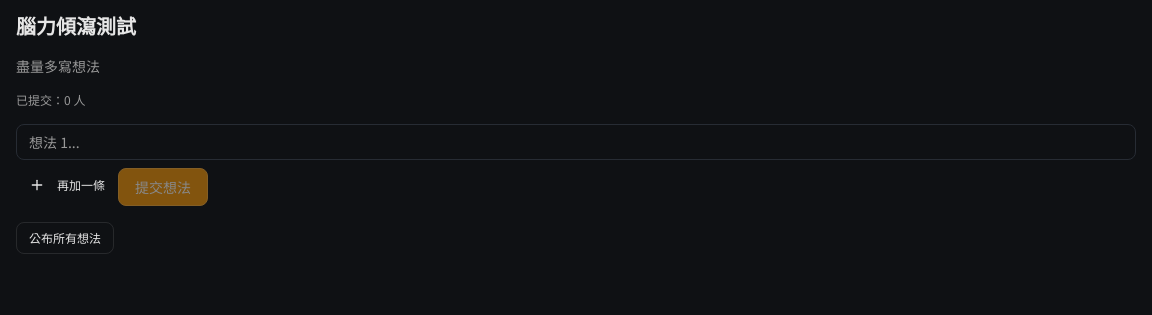
BrainDump — 互動 › 點加一條新增輸入框
Click the button with test id "bd-add-btn".
click(67, 185)  # box [16,169,118,201]
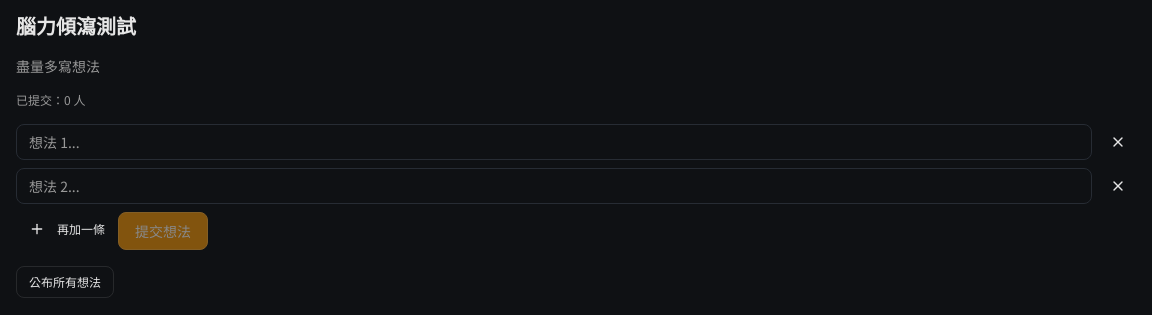
expect the field with test id "bd-idea-1" is shown: met, box [16,168,1092,204]
